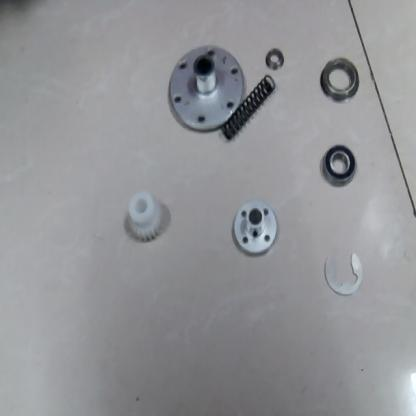FOD: (162, 45, 246, 134), (219, 73, 278, 146), (228, 200, 280, 258), (320, 246, 366, 303), (122, 190, 166, 245), (316, 54, 362, 103), (321, 142, 358, 188), (264, 46, 284, 72)
